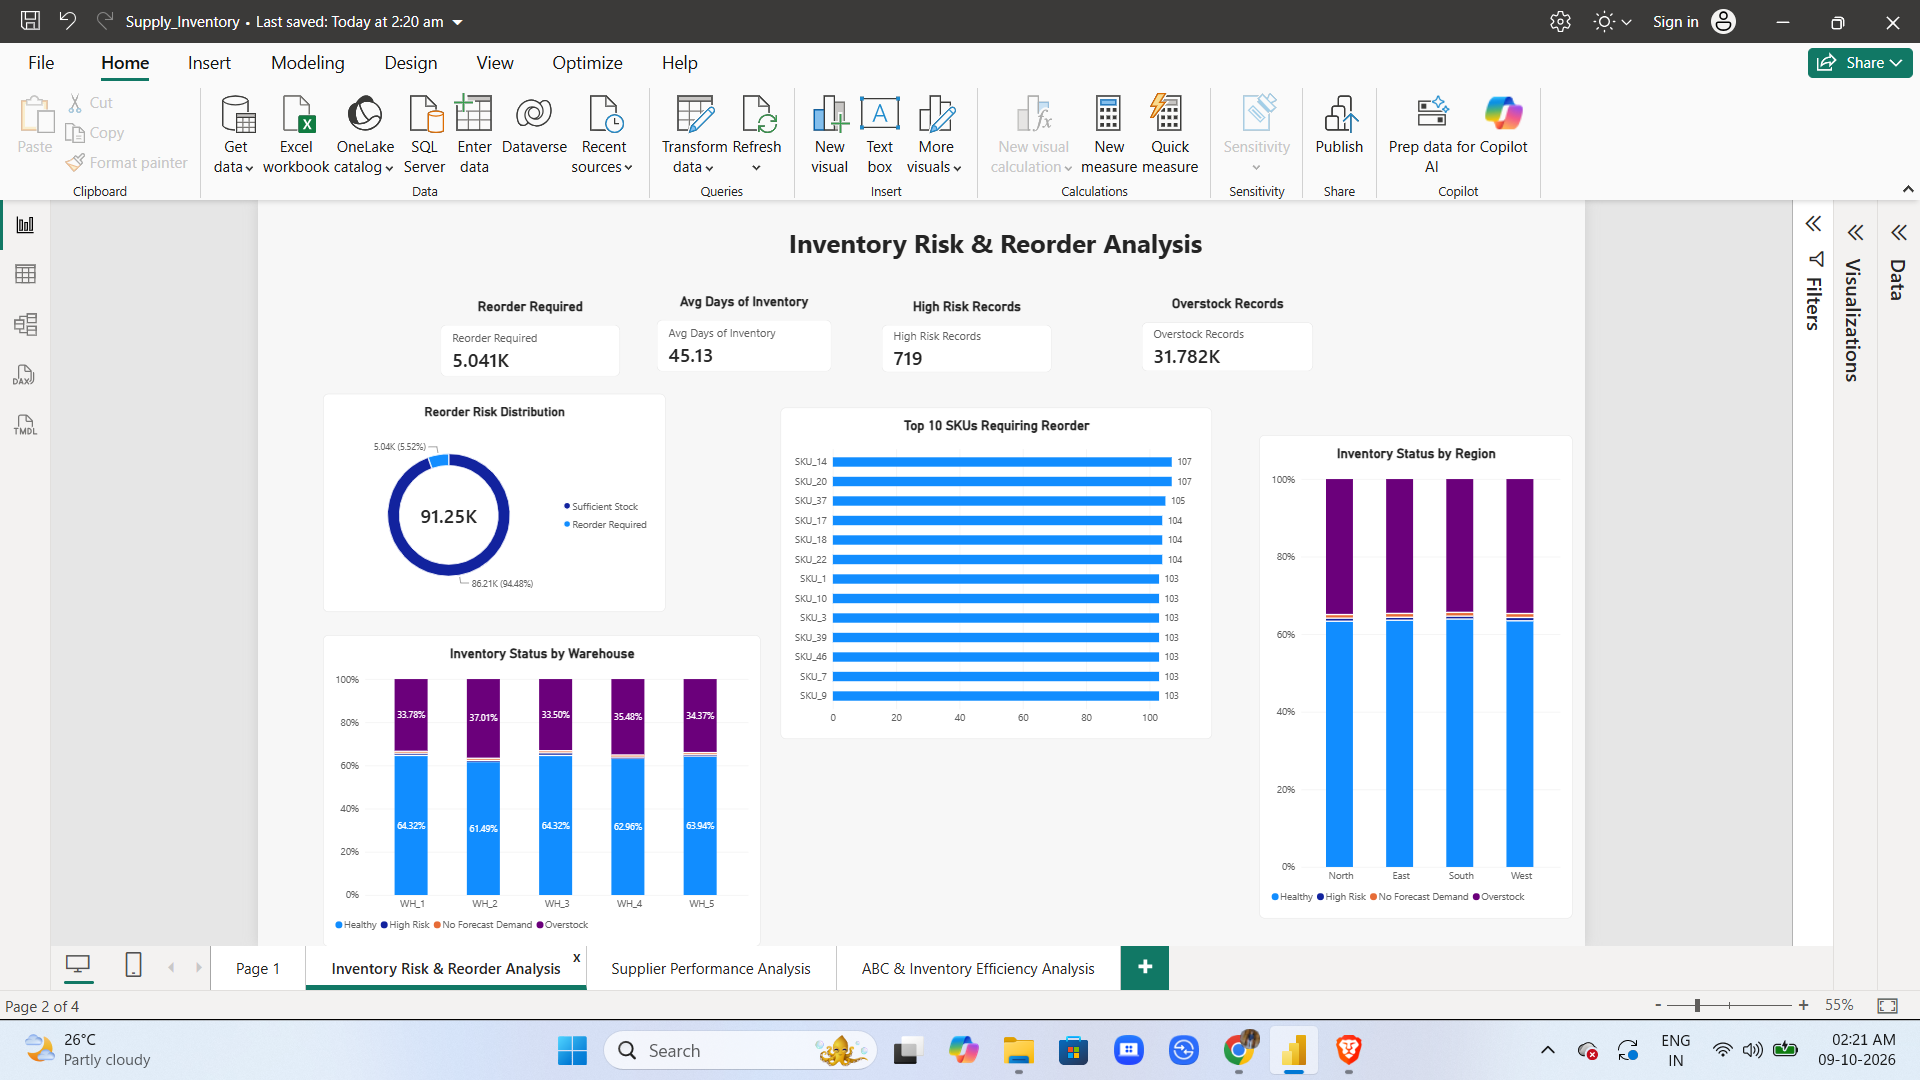

Layout of this report page (visuals, bound fields, positions):
{"tool":"powerbi","page":{"name":"Inventory Risk & Reorder Analysis","canvas":[1920,1080],"ordinal":1},"visuals":[{"type":"donutChart","title":"Reorder Risk Distribution","fields":{"Category":["SupplyChain.Reorder_Risk"],"Y":["CountNonNull(SupplyChain.Reorder_Risk)"]},"box":[93.4,280.1,495.7,315.6],"z":0},{"type":"cardVisual","title":"Reorder Required","fields":{"Data":["CountNonNull(SupplyChain.Reorder_Risk)"]},"box":[264.5,142.3,260.1,113.4],"z":1000},{"type":"cardVisual","title":"High Risk Records","fields":{"Data":["CountNonNull(SupplyChain.Inventory_Status)"]},"box":[902.4,142.3,246.7,106.7],"z":2000},{"type":"cardVisual","title":"Overstock Records","fields":{"Data":["CountNonNull(SupplyChain.Inventory_Status)"]},"box":[1280.3,140,248.9,108.9],"z":3000},{"type":"cardVisual","title":"Avg Days of Inventory","fields":{"Data":["SupplyChain.Average Days of Inventory"]},"box":[577.9,135.6,253.4,113.4],"z":4000},{"type":"clusteredBarChart","title":"Top 10 SKUs Requiring Reorder","fields":{"Category":["SupplyChain.SKU_ID"],"Y":["CountNonNull(SupplyChain.Reorder_Risk)"]},"box":[755.7,300.1,624.6,480.1],"z":5000},{"type":"hundredPercentStackedColumnChart","title":"Inventory Status by Region","fields":{"Category":["SupplyChain.Region"],"Series":["SupplyChain.Inventory_Status"],"Y":["CountNonNull(SupplyChain.Inventory_Status)"]},"box":[1449.2,340.1,453.4,700.2],"z":6000},{"type":"hundredPercentStackedColumnChart","title":"Inventory Status by Warehouse","fields":{"Category":["SupplyChain.Warehouse_ID"],"Series":["SupplyChain.Inventory_Status"],"Y":["CountNonNull(SupplyChain.Inventory_Status)"]},"box":[93.4,629,633.5,451.2],"z":7000},{"type":"textbox","box":[411.2,35.6,1313.6,104.5],"z":8000}]}

Visuals, with their boxes on the page's 1920x1080 design canvas (x1, y1, x2, y2). These are canvas units, not pixel positions in the 1920x1080 screenshot, which may show the page scaled, cropped or inside an application window:
"Reorder Risk Distribution" donutChart: (left=93, top=280, right=589, bottom=596)
"Reorder Required" cardVisual: (left=264, top=142, right=525, bottom=256)
"High Risk Records" cardVisual: (left=902, top=142, right=1149, bottom=249)
"Overstock Records" cardVisual: (left=1280, top=140, right=1529, bottom=249)
"Avg Days of Inventory" cardVisual: (left=578, top=136, right=831, bottom=249)
"Top 10 SKUs Requiring Reorder" clusteredBarChart: (left=756, top=300, right=1380, bottom=780)
"Inventory Status by Region" hundredPercentStackedColumnChart: (left=1449, top=340, right=1903, bottom=1040)
"Inventory Status by Warehouse" hundredPercentStackedColumnChart: (left=93, top=629, right=727, bottom=1080)
textbox: (left=411, top=36, right=1725, bottom=140)
